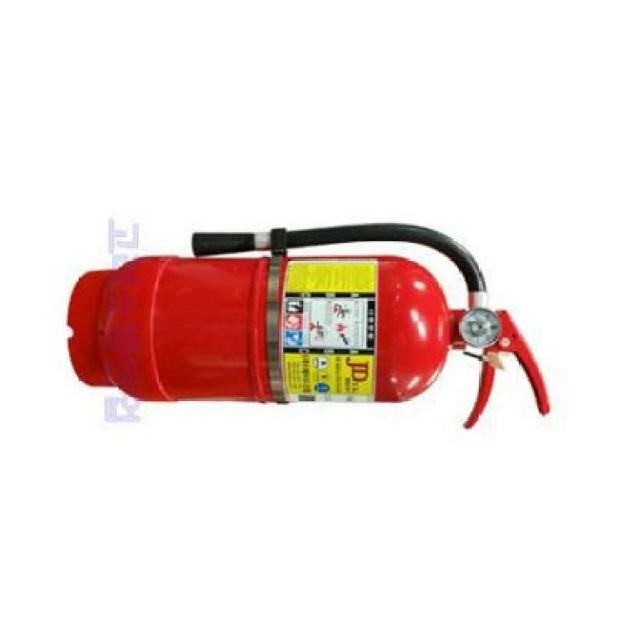fire extinguisher: (66, 221, 552, 430)
